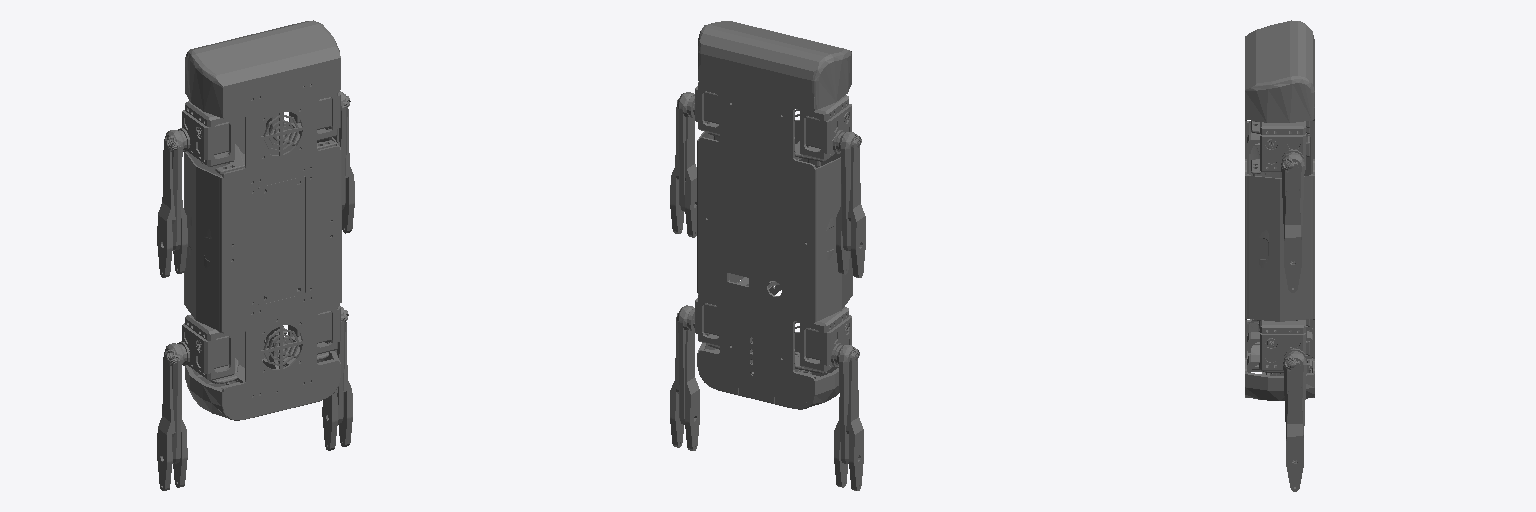
The robot description file, URDF, robot "Robot":
<?xml version="1.0" encoding="UTF-8"?>
<robot name="Robot">
    <link name="Base">
        <inertial>
            <mass value="0"/>
            <inertia ixx="0" ixy="0" ixz="0" iyy="0" iyz="0" izz="0"/>
        </inertial>
        <visual>
            <origin rpy="0.00000000 0.00000000 0.00000000" xyz="0.00000000 0.00000000 0.00000000"/>
            <geometry>
                <mesh filename="meshes\visual\base.stl" scale="1.00000000 1.00000000 1.00000000"/>
            </geometry>
            <material name="">
                <color rgba="0.50000000 0.50000000 0.50000000 1.00000000"/>
            </material>
        </visual>
        <collision>
            <origin rpy="0.00000000 0.00000000 0.00000000" xyz="0.00000000 0.00000000 0.00000000"/>
            <geometry>
                <mesh filename="meshes\collision\base_coll.stl" scale="1.00000000 1.00000000 1.00000000"/>
            </geometry>
        </collision>
    </link>
    <link name="Body01">
        <inertial>
            <origin rpy="0.00000000 0.00000000 0.00000000" xyz="0.00715934  0.00030873 -0.03703405"/>
            <mass value="0.14865458"/>
            <inertia ixx="0.00018115" ixy="-0.00000189" ixz="0.00000227" iyy="0.00022494" iyz="-0.00004116" izz="0.00016451"/>
        </inertial>
        <visual>
            <origin rpy="0.00000000 0.00000000 0.00000000" xyz="0.00000000 0.00000000 0.00000000"/>
            <geometry>
                <mesh filename="meshes\visual\Body01.stl" scale="1.00000000 1.00000000 1.00000000"/>
            </geometry>
            <material name="">
                <color rgba="0.50000000 0.50000000 0.50000000 1.00000000"/>
            </material>
        </visual>
        <collision>
            <origin rpy="0.00000000 0.00000000 0.00000000" xyz="0.00000000 0.00000000 0.00000000"/>
            <geometry>
                <mesh filename="meshes\collision\Body01_coll.stl" scale="1.00000000 1.00000000 1.00000000"/>
            </geometry>
        </collision>
    </link>
    <link name="Body02">
        <inertial>
            <origin rpy="0.00000000 0.00000000 0.00000000" xyz="-0.03312008 -0.00142791 -0.01447259"/>
            <mass value="0.01138778"/>
            <inertia ixx="0.00000127" ixy="-0.00000088" ixz="-0.00000235" iyy="0.00002168" iyz="-0.00000010" izz="0.00002156"/>
        </inertial>
        <visual>
            <origin rpy="0.00000000 0.00000000 0.00000000" xyz="0.00000000 0.00000000 0.00000000"/>
            <geometry>
                <mesh filename="meshes\visual\Body02.stl" scale="1.00000000 1.00000000 1.00000000"/>
            </geometry>
            <material name="">
                <color rgba="0.50000000 0.50000000 0.50000000 1.00000000"/>
            </material>
        </visual>
        <collision>
            <origin rpy="0.00000000 0.00000000 0.00000000" xyz="0.00000000 0.00000000 0.00000000"/>
            <geometry>
                <mesh filename="meshes\collision\Body02_coll.stl" scale="1.00000000 1.00000000 1.00000000"/>
            </geometry>
        </collision>
    </link>
    <link name="Body03">
        <inertial>
            <origin rpy="0.00000000 0.00000000 0.00000000" xyz="0.04896763  0.04600256 -0.00520000"/>
            <mass value="0.01969612"/>
            <inertia ixx="0.00002377" ixy="-0.00002329" ixz="0.00000000" iyy="0.00002578" iyz="0.00000000" izz="0.00004778"/>
        </inertial>
        <visual>
            <origin rpy="0.00000000 0.00000000 0.00000000" xyz="0.00000000 0.00000000 0.00000000"/>
            <geometry>
                <mesh filename="meshes\visual\Body03.stl" scale="1.00000000 1.00000000 1.00000000"/>
            </geometry>
            <material name="">
                <color rgba="0.50000000 0.50000000 0.50000000 1.00000000"/>
            </material>
        </visual>
        <collision>
            <origin rpy="0.00000000 0.00000000 0.00000000" xyz="0.00000000 0.00000000 0.00000000"/>
            <geometry>
                <mesh filename="meshes\collision\Body03_coll.stl" scale="1.00000000 1.00000000 1.00000000"/>
            </geometry>
        </collision>
    </link>
    <link name="Body04">
        <inertial>
            <origin rpy="0.00000000 0.00000000 0.00000000" xyz="-0.00715934 -0.00030856 -0.03703405"/>
            <mass value="0.14865458"/>
            <inertia ixx="0.00018115" ixy="-0.00000189" ixz="-0.00000227" iyy="0.00022494" iyz="0.00004116" izz="0.00016451"/>
        </inertial>
        <visual>
            <origin rpy="0.00000000 0.00000000 0.00000000" xyz="0.00000000 0.00000000 0.00000000"/>
            <geometry>
                <mesh filename="meshes\visual\Body04.stl" scale="1.00000000 1.00000000 1.00000000"/>
            </geometry>
            <material name="">
                <color rgba="0.50000000 0.50000000 0.50000000 1.00000000"/>
            </material>
        </visual>
        <collision>
            <origin rpy="0.00000000 0.00000000 0.00000000" xyz="0.00000000 0.00000000 0.00000000"/>
            <geometry>
                <mesh filename="meshes\collision\Body04_coll.stl" scale="1.00000000 1.00000000 1.00000000"/>
            </geometry>
        </collision>
    </link>
    <link name="Body05">
        <inertial>
            <origin rpy="0.00000000 0.00000000 0.00000000" xyz="-0.03312008 -0.00142791 -0.01447259"/>
            <mass value="0.01138778"/>
            <inertia ixx="0.00000127" ixy="-0.00000088" ixz="-0.00000235" iyy="0.00002168" iyz="-0.00000010" izz="0.00002156"/>
        </inertial>
        <visual>
            <origin rpy="0.00000000 0.00000000 0.00000000" xyz="0.00000000 0.00000000 0.00000000"/>
            <geometry>
                <mesh filename="meshes\visual\Body02.stl" scale="1.00000000 1.00000000 1.00000000"/>
            </geometry>
            <material name="">
                <color rgba="0.50000000 0.50000000 0.50000000 1.00000000"/>
            </material>
        </visual>
        <collision>
            <origin rpy="0.00000000 0.00000000 0.00000000" xyz="0.00000000 0.00000000 0.00000000"/>
            <geometry>
                <mesh filename="meshes\collision\Body02_coll.stl" scale="1.00000000 1.00000000 1.00000000"/>
            </geometry>
        </collision>
    </link>
    <link name="Body06">
        <inertial>
            <origin rpy="0.00000000 0.00000000 0.00000000" xyz="0.04896763  0.04600256 -0.00520000"/>
            <mass value="0.01969612"/>
            <inertia ixx="0.00002377" ixy="-0.00002329" ixz="0.00000000" iyy="0.00002578" iyz="0.00000000" izz="0.00004778"/>
        </inertial>
        <visual>
            <origin rpy="0.00000000 0.00000000 0.00000000" xyz="0.00000000 0.00000000 0.00000000"/>
            <geometry>
                <mesh filename="meshes\visual\Body03.stl" scale="1.00000000 1.00000000 1.00000000"/>
            </geometry>
            <material name="">
                <color rgba="0.50000000 0.50000000 0.50000000 1.00000000"/>
            </material>
        </visual>
        <collision>
            <origin rpy="0.00000000 0.00000000 0.00000000" xyz="0.00000000 0.00000000 0.00000000"/>
            <geometry>
                <mesh filename="meshes\collision\Body03_coll.stl" scale="1.00000000 1.00000000 1.00000000"/>
            </geometry>
        </collision>
    </link>
    <link name="Body07">
        <inertial>
            <origin rpy="0.00000000 0.00000000 0.00000000" xyz="0.00030881 -0.00715933 -0.03703405"/>
            <mass value="0.14865458"/>
            <inertia ixx="0.00022494" ixy="0.00000189" ixz="-0.00004206" iyy="0.00018115" iyz="-0.00000231" izz="0.00016451"/>
        </inertial>
        <visual>
            <origin rpy="0.00000000 0.00000000 0.00000000" xyz="0.00000000 0.00000000 0.00000000"/>
            <geometry>
                <mesh filename="meshes\visual\Body07.stl" scale="1.00000000 1.00000000 1.00000000"/>
            </geometry>
            <material name="">
                <color rgba="0.50000000 0.50000000 0.50000000 1.00000000"/>
            </material>
        </visual>
        <collision>
            <origin rpy="0.00000000 0.00000000 0.00000000" xyz="0.00000000 0.00000000 0.00000000"/>
            <geometry>
                <mesh filename="meshes\collision\Body07_coll.stl" scale="1.00000000 1.00000000 1.00000000"/>
            </geometry>
        </collision>
    </link>
    <link name="Body08">
        <inertial>
            <origin rpy="0.00000000 0.00000000 0.00000000" xyz="-0.00142791  0.03312008 -0.01447259"/>
            <mass value="0.01138778"/>
            <inertia ixx="0.00002168" ixy="0.00000088" ixz="-0.00000010" iyy="0.00000127" iyz="0.00000235" izz="0.00002156"/>
        </inertial>
        <visual>
            <origin rpy="0.00000000 0.00000000 0.00000000" xyz="0.00000000 0.00000000 0.00000000"/>
            <geometry>
                <mesh filename="meshes\visual\Body02.stl" scale="1.00000000 1.00000000 1.00000000"/>
            </geometry>
            <material name="">
                <color rgba="0.50000000 0.50000000 0.50000000 1.00000000"/>
            </material>
        </visual>
        <collision>
            <origin rpy="0.00000000 0.00000000 0.00000000" xyz="0.00000000 0.00000000 0.00000000"/>
            <geometry>
                <mesh filename="meshes\collision\Body02_coll.stl" scale="1.00000000 1.00000000 1.00000000"/>
            </geometry>
        </collision>
    </link>
    <link name="Body09">
        <inertial>
            <origin rpy="0.00000000 0.00000000 0.00000000" xyz="0.06525451 -0.01599730 -0.00520000"/>
            <mass value="0.01969612"/>
            <inertia ixx="0.00000431" ixy="0.00001118" ixz="0.00000000" iyy="0.00004523" iyz="0.00000000" izz="0.00004778"/>
        </inertial>
        <visual>
            <origin rpy="0.00000000 0.00000000 0.00000000" xyz="0.00000000 0.00000000 0.00000000"/>
            <geometry>
                <mesh filename="meshes\visual\Body09.stl" scale="1.00000000 1.00000000 1.00000000"/>
            </geometry>
            <material name="">
                <color rgba="0.50000000 0.50000000 0.50000000 1.00000000"/>
            </material>
        </visual>
        <collision>
            <origin rpy="0.00000000 0.00000000 0.00000000" xyz="0.00000000 0.00000000 0.00000000"/>
            <geometry>
                <mesh filename="meshes\collision\Body09_coll.stl" scale="1.00000000 1.00000000 1.00000000"/>
            </geometry>
        </collision>
    </link>
    <link name="Body10">
        <inertial>
            <origin rpy="0.00000000 0.00000000 0.00000000" xyz="0.00030831 -0.00715935 -0.03703405"/>
            <mass value="0.14865458"/>
            <inertia ixx="0.00022494" ixy="0.00000189" ixz="-0.00004206" iyy="0.00018115" iyz="-0.00000231" izz="0.00016451"/>
        </inertial>
        <visual>
            <origin rpy="0.00000000 0.00000000 0.00000000" xyz="0.00000000 0.00000000 0.00000000"/>
            <geometry>
                <mesh filename="meshes\visual\Body10.stl" scale="1.00000000 1.00000000 1.00000000"/>
            </geometry>
            <material name="">
                <color rgba="0.50000000 0.50000000 0.50000000 1.00000000"/>
            </material>
        </visual>
        <collision>
            <origin rpy="0.00000000 0.00000000 0.00000000" xyz="0.00000000 0.00000000 0.00000000"/>
            <geometry>
                <mesh filename="meshes\collision\Body10_coll.stl" scale="1.00000000 1.00000000 1.00000000"/>
            </geometry>
        </collision>
    </link>
    <link name="Body11">
        <inertial>
            <origin rpy="0.00000000 0.00000000 0.00000000" xyz="-0.00142791  0.03312008 -0.01447259"/>
            <mass value="0.01138778"/>
            <inertia ixx="0.00002168" ixy="0.00000088" ixz="-0.00000010" iyy="0.00000127" iyz="0.00000235" izz="0.00002156"/>
        </inertial>
        <visual>
            <origin rpy="0.00000000 0.00000000 0.00000000" xyz="0.00000000 0.00000000 0.00000000"/>
            <geometry>
                <mesh filename="meshes\visual\Body02.stl" scale="1.00000000 1.00000000 1.00000000"/>
            </geometry>
            <material name="">
                <color rgba="0.50000000 0.50000000 0.50000000 1.00000000"/>
            </material>
        </visual>
        <collision>
            <origin rpy="0.00000000 0.00000000 0.00000000" xyz="0.00000000 0.00000000 0.00000000"/>
            <geometry>
                <mesh filename="meshes\collision\Body02_coll.stl" scale="1.00000000 1.00000000 1.00000000"/>
            </geometry>
        </collision>
    </link>
    <link name="Body12">
        <inertial>
            <origin rpy="0.00000000 0.00000000 0.00000000" xyz="0.06525451 -0.01599730 -0.00520000"/>
            <mass value="0.01969612"/>
            <inertia ixx="0.00000431" ixy="0.00001118" ixz="0.00000000" iyy="0.00004523" iyz="0.00000000" izz="0.00004778"/>
        </inertial>
        <visual>
            <origin rpy="0.00000000 0.00000000 0.00000000" xyz="0.00000000 0.00000000 0.00000000"/>
            <geometry>
                <mesh filename="meshes\visual\Body09.stl" scale="1.00000000 1.00000000 1.00000000"/>
            </geometry>
            <material name="">
                <color rgba="0.50000000 0.50000000 0.50000000 1.00000000"/>
            </material>
        </visual>
        <collision>
            <origin rpy="0.00000000 0.00000000 0.00000000" xyz="0.00000000 0.00000000 0.00000000"/>
            <geometry>
                <mesh filename="meshes\collision\Body09_coll.stl" scale="1.00000000 1.00000000 1.00000000"/>
            </geometry>
        </collision>
    </link>
    <joint name="Joint01" type="revolute">
        <parent link="Base"/>
        <child link="Body01"/>
        <origin rpy="3.14159265 0.00000000 0.00000000" xyz="0.06500000 0.04800000 0.10250000"/>
        <axis xyz="0.00000000 0.00000000 1.00000000"/>
        <limit lower="-3.14159265" upper="3.14159265" effort="0" velocity="0"/>
    </joint>
    <joint name="Joint02" type="revolute">
        <parent link="Body01"/>
        <child link="Body02"/>
        <origin rpy="-3.14159265  1.57079633  0.00000000" xyz="0.02840000 -0.01310000 -0.02740000"/>
        <axis xyz="0.00000000 0.00000000 1.00000000"/>
        <limit lower="-3.14159265" upper="3.14159265" effort="0" velocity="0"/>
    </joint>
    <joint name="Joint03" type="revolute">
        <parent link="Body02"/>
        <child link="Body03"/>
        <origin rpy="3.14159265 0.00000000 0.00000000" xyz="-0.12990000  0.00000000 -0.02600000"/>
        <axis xyz="0.00000000 0.00000000 1.00000000"/>
        <limit lower="-3.14159265" upper="3.14159265" effort="0" velocity="0"/>
    </joint>
    <joint name="Joint04" type="revolute">
        <parent link="Base"/>
        <child link="Body04"/>
        <origin rpy="0.00000000 0.00000000 3.14159265" xyz="0.06500000  0.04820000 -0.10250000"/>
        <axis xyz="0.00000000 0.00000000 1.00000000"/>
        <limit lower="-3.14159265" upper="3.14159265" effort="0" velocity="0"/>
    </joint>
    <joint name="Joint05" type="revolute">
        <parent link="Body04"/>
        <child link="Body05"/>
        <origin rpy="-3.14159265 -1.57079633  0.00000000" xyz="-0.02720000 -0.01550000 -0.04760000"/>
        <axis xyz="0.00000000 0.00000000 1.00000000"/>
        <limit lower="-3.14159265" upper="3.14159265" effort="0" velocity="0"/>
    </joint>
    <joint name="Joint06" type="revolute">
        <parent link="Body05"/>
        <child link="Body06"/>
        <origin rpy="3.14159265 0.00000000 0.00000000" xyz="-0.12990000  0.00000000 -0.02600000"/>
        <axis xyz="0.00000000 0.00000000 1.00000000"/>
        <limit lower="-3.14159265" upper="3.14159265" effort="0" velocity="0"/>
    </joint>
    <joint name="Joint07" type="revolute">
        <parent link="Base"/>
        <child link="Body07"/>
        <origin rpy="0.00000000 0.00000000 0.00000000" xyz="-0.06500000  0.04800013 -0.10250000"/>
        <axis xyz="0.00000000 0.00000000 1.00000000"/>
        <limit lower="-3.14159265" upper="3.14159265" effort="0" velocity="0"/>
    </joint>
    <joint name="Joint08" type="revolute">
        <parent link="Body07"/>
        <child link="Body08"/>
        <origin rpy="-3.14159265 -1.57079633  0.00000000" xyz="-0.02720000  0.01550000 -0.04760000"/>
        <axis xyz="0.00000000 0.00000000 1.00000000"/>
        <limit lower="-3.14159265" upper="3.14159265" effort="0" velocity="0"/>
    </joint>
    <joint name="Joint09" type="revolute">
        <parent link="Body08"/>
        <child link="Body09"/>
        <origin rpy="3.14159265 0.00000000 0.00000000" xyz="-0.12987943  0.00000000 -0.02600000"/>
        <axis xyz="0.00000000 0.00000000 1.00000000"/>
        <limit lower="-3.14159265" upper="3.14159265" effort="0" velocity="0"/>
    </joint>
    <joint name="Joint10" type="revolute">
        <parent link="Base"/>
        <child link="Body10"/>
        <origin rpy="3.14159265 0.00000000 3.14159265" xyz="-0.06500000  0.04800013  0.10250000"/>
        <axis xyz="0.00000000 0.00000000 1.00000000"/>
        <limit lower="-3.14159265" upper="3.14159265" effort="0" velocity="0"/>
    </joint>
    <joint name="Joint11" type="revolute">
        <parent link="Body10"/>
        <child link="Body11"/>
        <origin rpy="-3.14159265  1.57079633  0.00000000" xyz="0.02840000  0.01310000 -0.02740000"/>
        <axis xyz="0.00000000 0.00000000 1.00000000"/>
        <limit lower="-3.14159265" upper="3.14159265" effort="0" velocity="0"/>
    </joint>
    <joint name="Joint12" type="revolute">
        <parent link="Body11"/>
        <child link="Body12"/>
        <origin rpy="3.14159265 0.00000000 0.00000000" xyz="-0.12987943  0.00000000 -0.02600000"/>
        <axis xyz="0.00000000 0.00000000 1.00000000"/>
        <limit lower="-3.14159265" upper="3.14159265" effort="0" velocity="0"/>
    </joint>
</robot>

--- Facts derived from the render (not from the file) ---
Views: 3 orthographic renders of the robot side by side, from view 1: azimuth 30°, elevation 25°; view 2: azimuth 150°, elevation 25°; view 3: azimuth 270°, elevation 25°.
Model Robot with 13 links and 12 joints (12 revolute), rooted at Base, posed all joints at 0.
Links seen in each view (by area): view 1: Base, Body10, Body07, Body12, Body09, Body06, Body08, Body11, Body01, Body04, Body03, Body02 (+1 smaller); view 2: Base, Body10, Body09, Body07, Body12, Body06, Body03, Body11, Body08, Body01, Body04, Body05 (+1 smaller); view 3: Base, Body06, Body03, Body04, Body01, Body02, Body05.
Boxes of the visible links, x1,y1,x2,y2 form: Base: (184, 20, 341, 420); Body10: (182, 101, 234, 166); Body07: (182, 315, 234, 380); Body12: (157, 135, 187, 277); Body09: (157, 349, 187, 490); Body06: (322, 307, 352, 450); Body08: (165, 341, 189, 463); Body11: (165, 128, 190, 250); Body01: (289, 93, 340, 140); Body04: (288, 307, 340, 354); Body03: (333, 93, 354, 233); Body02: (339, 91, 347, 209); Base: (697, 21, 852, 409); Body10: (800, 95, 851, 160); Body09: (834, 347, 863, 490); Body07: (800, 307, 851, 372); Body12: (836, 134, 865, 277); Body06: (670, 306, 699, 450); Body03: (670, 93, 696, 237); Body11: (833, 130, 854, 250); Body08: (831, 343, 852, 463); Body01: (695, 82, 719, 134); Body04: (695, 282, 737, 346); Body05: (677, 305, 694, 424); Base: (1245, 20, 1314, 400); Body06: (1283, 356, 1303, 491); Body03: (1281, 158, 1301, 292); Body04: (1260, 320, 1305, 370); Body01: (1260, 121, 1305, 171); Body02: (1281, 150, 1304, 261); Body05: (1283, 349, 1306, 460).
Size in the robot's own frame: 0.2564 by 0.089 by 0.5639 metres.
Meshes: 8 distinct files referenced, 13 mesh visuals loaded (8 binary STL).